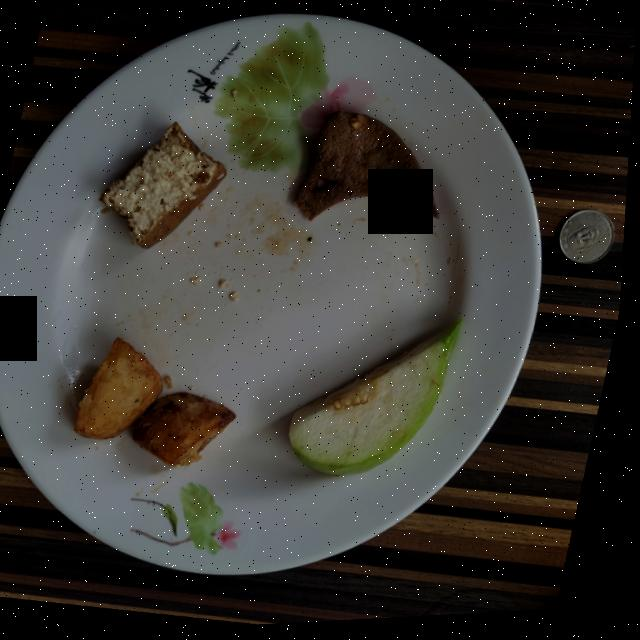coin: (562, 216, 618, 271)
egg tofu: (102, 124, 229, 251)
fried potato: (79, 339, 241, 469)
guava -sliced-: (294, 324, 466, 479), (139, 394, 241, 469)
pig liver: (298, 114, 442, 224)
